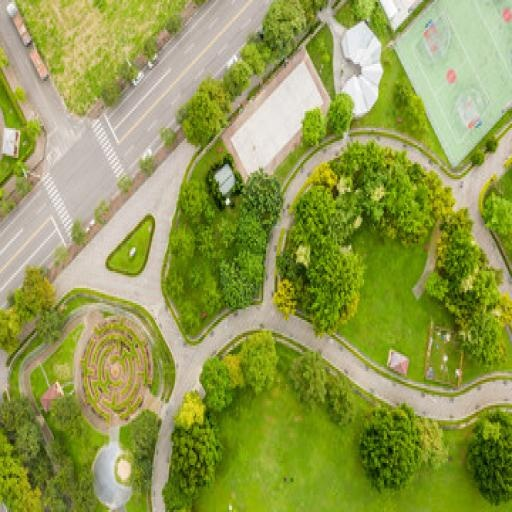tree-top: (363, 397, 418, 492), (176, 79, 241, 150), (466, 410, 512, 504), (312, 245, 358, 330), (172, 424, 218, 494), (386, 165, 429, 231), (292, 178, 330, 248), (244, 328, 279, 398), (291, 345, 329, 407), (479, 176, 512, 246), (0, 457, 42, 512), (227, 250, 262, 312), (244, 165, 280, 223), (263, 0, 301, 53), (202, 354, 232, 418), (426, 166, 457, 222), (335, 185, 363, 247), (19, 272, 55, 320), (475, 317, 507, 370), (325, 376, 358, 427), (448, 224, 478, 280), (44, 461, 76, 512), (126, 418, 157, 468), (234, 220, 272, 258), (0, 393, 31, 438), (14, 421, 46, 463), (270, 277, 301, 319), (0, 304, 23, 358), (182, 178, 208, 224), (51, 393, 82, 431), (326, 93, 354, 135), (178, 388, 207, 427), (406, 94, 430, 138), (199, 280, 223, 322), (172, 226, 197, 264), (176, 301, 202, 337), (302, 109, 326, 146), (42, 309, 66, 343), (230, 57, 252, 89), (394, 74, 414, 106), (427, 274, 449, 302)
